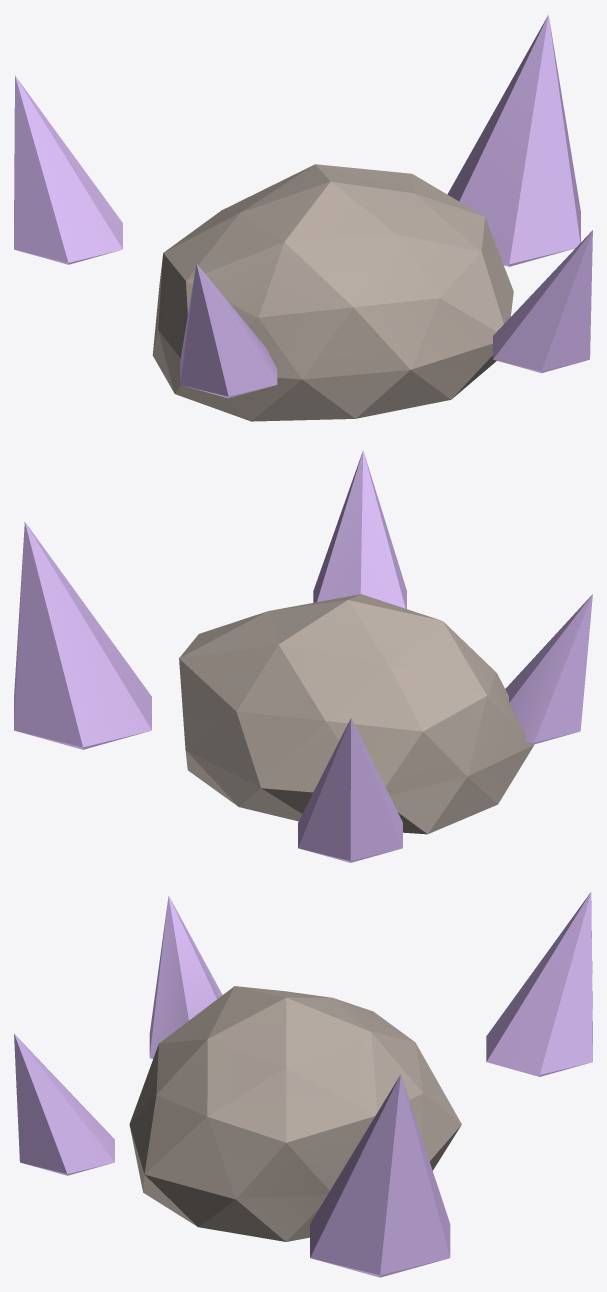
The model's file is VCaveCrystal_B.fbx.
3 renders of one model, top to bottom at view 1: azimuth 30°, elevation 25°; view 2: azimuth 150°, elevation 25°; view 3: azimuth 270°, elevation 25°, orthographic. The views are drawn at different scales.
Visible parts, largest first — view 1: VCaveCrystal_B; view 2: VCaveCrystal_B; view 3: VCaveCrystal_B.
Boxes of the visible parts, <box> form: VCaveCrystal_B: <box>14,15,592,421</box>; VCaveCrystal_B: <box>14,450,592,862</box>; VCaveCrystal_B: <box>14,892,592,1277</box>.
Bounding box in the file's own units: 1.79 × 0.8307 × 1.85.
